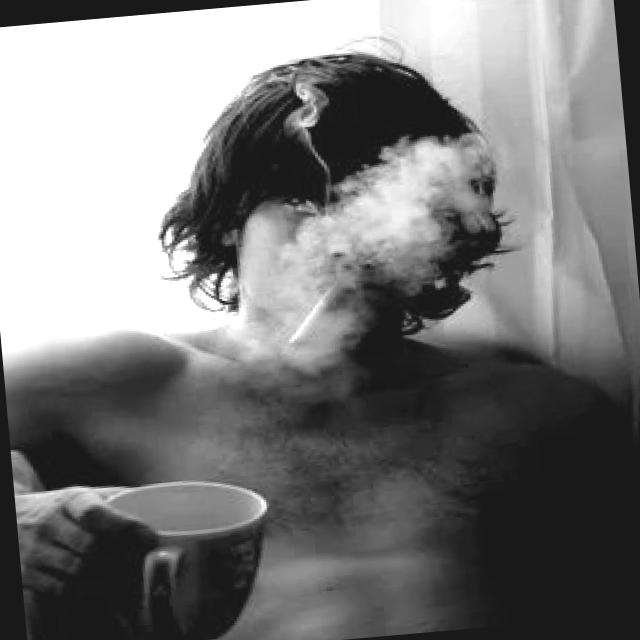smoke: (280, 276, 350, 347)
